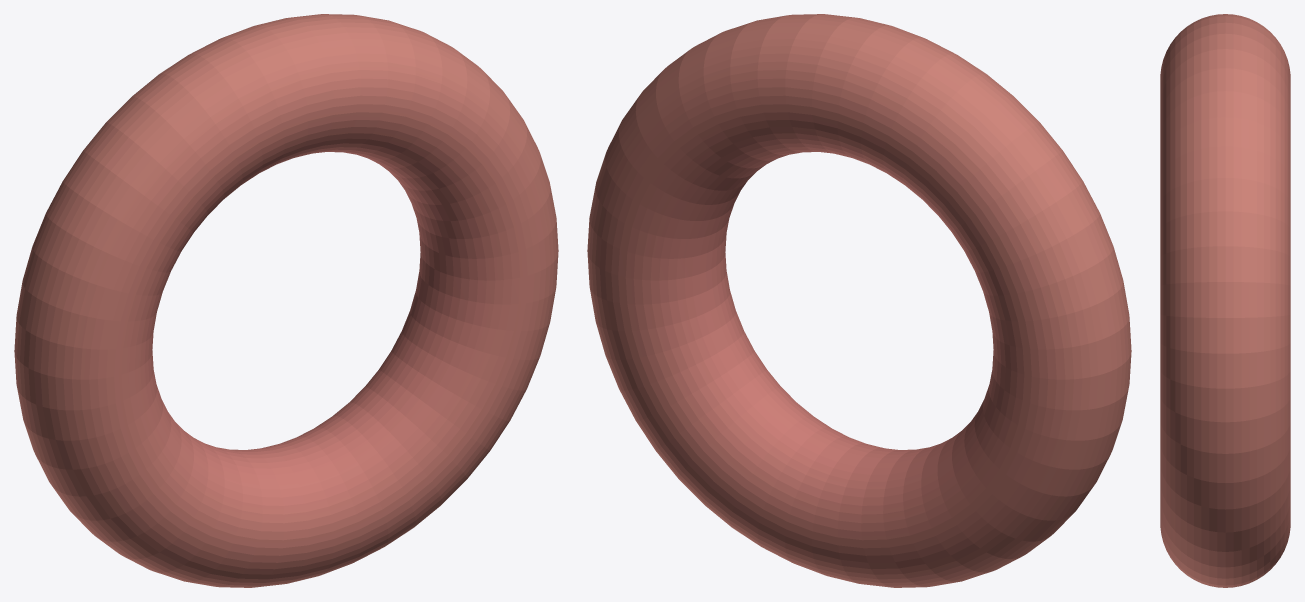
3 renders of one model, left to right at view 1: azimuth 30°, elevation 25°; view 2: azimuth 150°, elevation 25°; view 3: azimuth 270°, elevation 25°, orthographic. The views are drawn at different scales.
Parts seen in each view (by area): view 1: world; view 2: world; view 3: world.
Part boxes in pixels (x1=…): world: x1=14, y1=14, x2=558, y2=587; world: x1=587, y1=14, x2=1131, y2=587; world: x1=1160, y1=14, x2=1290, y2=587.
Bounding box in the file's own units: 31.07 × 31.01 × 7.05.
